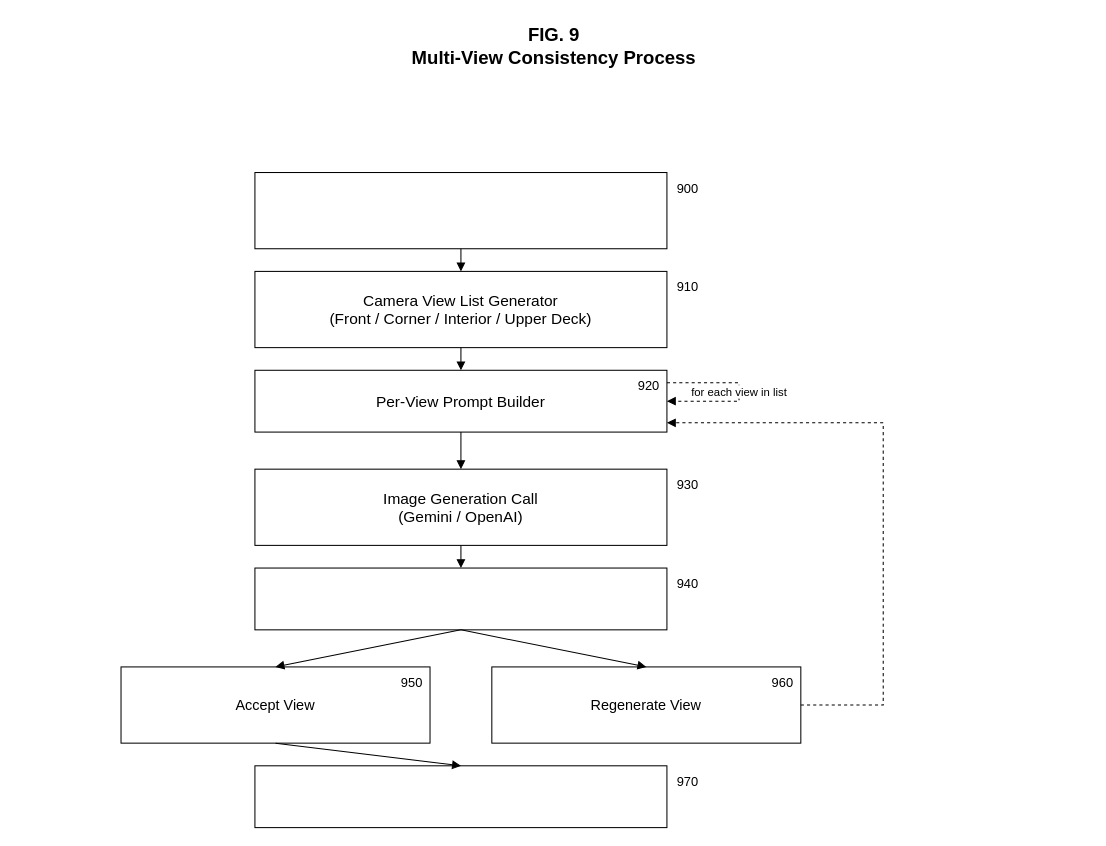
Some shapes in this 1106 by 846 pixel diagram are drawn without their labels. The shapes that lost their labels are listed below. From the top down, each one's centre as x and y in pixels, then its label:
At pixel 460 210: "Approved Hero-View Design + Orientation Lock Facts".
At pixel 460 598: "Geometry & Orientation Verification".
At pixel 460 796: "Assembled Multi-View Gallery Output".
